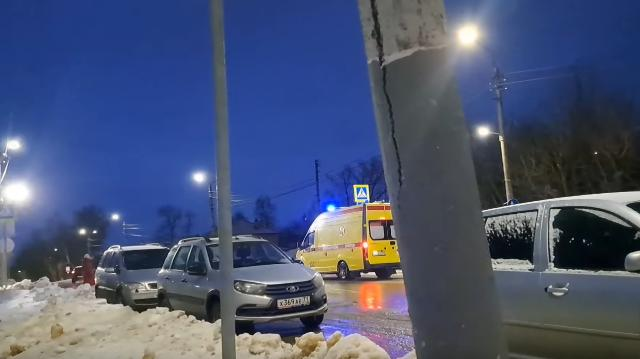intensive care unit: (296, 203, 402, 281)
non emergency car: (482, 190, 639, 359), (156, 234, 326, 336), (92, 246, 170, 310)
